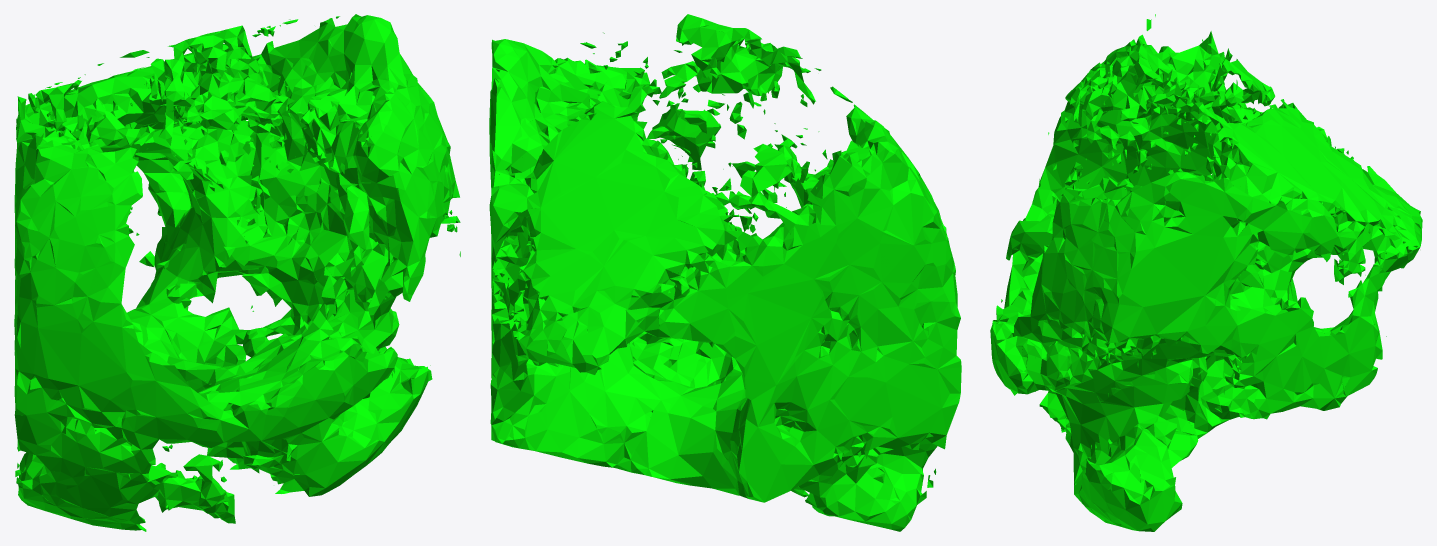
Rendered from B939XXXX-1_base.obj.
3 renders of one model, left to right at view 1: azimuth 30°, elevation 25°; view 2: azimuth 150°, elevation 25°; view 3: azimuth 270°, elevation 25°, orthographic. The views are drawn at different scales.
Visible parts, largest first — view 1: B939XXXX-11; view 2: B939XXXX-11; view 3: B939XXXX-11.
Part boxes in pixels (x1,y1,x2,y2): B939XXXX-11: [14, 14, 460, 531]; B939XXXX-11: [489, 14, 961, 531]; B939XXXX-11: [990, 14, 1422, 531].
Bounding box in the file's own units: 218 × 218 × 202.
